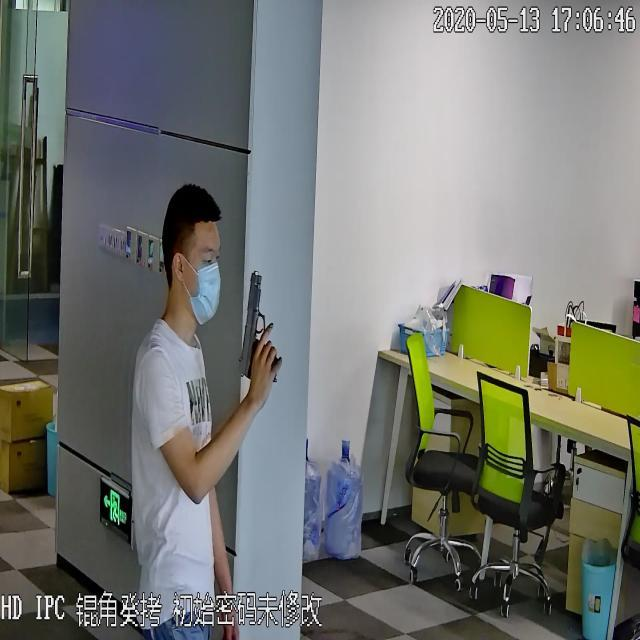gun: (238, 269, 284, 387)
